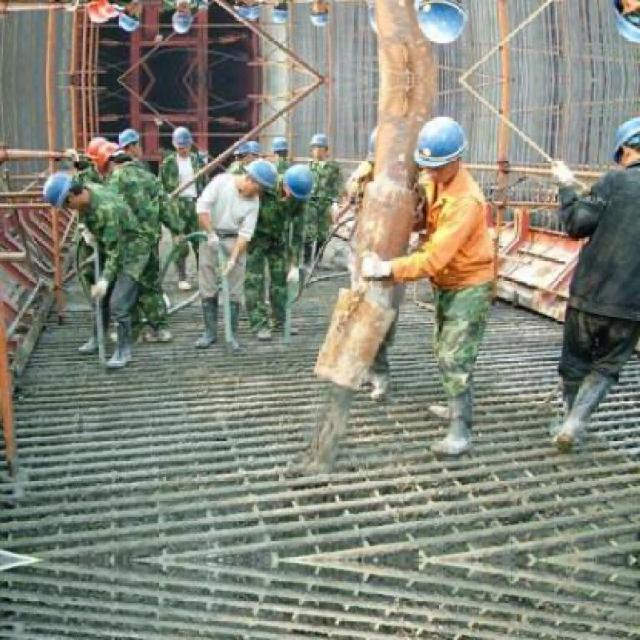helmet: (414, 114, 469, 178), (412, 0, 470, 48), (606, 112, 639, 183), (234, 157, 277, 203), (40, 171, 82, 217), (606, 0, 640, 49), (282, 163, 316, 206), (95, 140, 128, 174), (171, 123, 194, 157), (171, 3, 194, 37), (96, 0, 130, 22), (118, 126, 142, 157), (118, 3, 142, 34), (84, 0, 108, 28), (86, 134, 108, 164), (312, 131, 334, 158), (312, 2, 334, 29), (274, 136, 291, 164), (274, 0, 292, 26)
